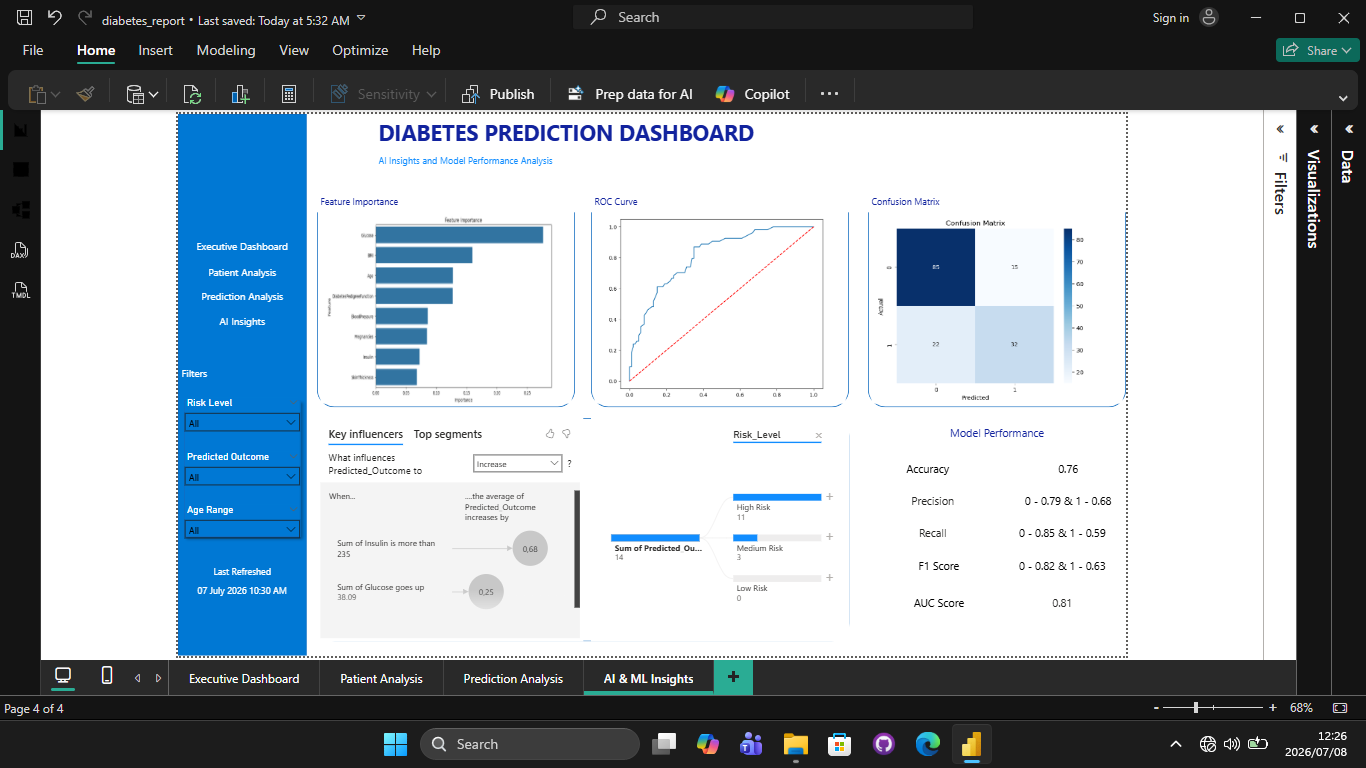

The dashboard page shown, as its layout file describes it:
{"tool":"powerbi","page":{"name":"AI & ML Insights","canvas":[1400,800],"ordinal":3},"visuals":[{"type":"shape","box":[0,0,189.7,799.4],"z":0},{"type":"textbox","box":[0,180.6,189.7,37.6],"z":1000},{"type":"textbox","box":[0,218.3,189.7,36.1],"z":2000},{"type":"textbox","box":[0,254.4,189.7,36.1],"z":3000},{"type":"textbox","box":[0,290.5,189.7,34.6],"z":4000},{"type":"shape","box":[0,414,189.7,219.8],"z":5000},{"type":"textbox","box":[0,367.3,189.7,33.1],"z":6000},{"type":"slicer","fields":{"Values":["Diabetes_Predictions.Risk_Level"]},"box":[0,414,189.7,67.7],"z":7000},{"type":"slicer","fields":{"Values":["Diabetes_Predictions.Predicted_Outcome"]},"box":[0,492.3,189.7,63.2],"z":8000},{"type":"slicer","fields":{"Values":["Diabetes_Predictions.Age"]},"box":[0,570.5,189.7,63.2],"z":9000},{"type":"textbox","box":[0,660.9,189.7,28.6],"z":10000},{"type":"textbox","box":[0,689.5,189.7,31.6],"z":11000},{"type":"textbox","box":[290.5,0,1109.5,54.2],"z":12000},{"type":"textbox","box":[290.5,54.2,1109.5,33.1],"z":13000},{"type":"shape","box":[204.7,114.4,380.9,317.6],"z":14000},{"type":"shape","box":[204.7,448.6,785.8,329.7],"z":15000},{"type":"shape","box":[1019.1,114.4,380.9,317.6],"z":16000},{"type":"shape","box":[609.7,114.4,380.9,317.6],"z":17000},{"type":"shape","box":[1019.1,454.6,380.9,317.6],"z":18000},{"type":"keyDriversVisual","fields":{"Target":["Diabetes_Predictions.Predicted_Outcome"],"ExplainBy":["Sum(Diabetes_Predictions.Glucose)","Sum(Diabetes_Predictions.BMI)","Sum(Diabetes_Predictions.Age)","Sum(Diabetes_Predictions.BloodPressure)","Sum(Diabetes_Predictions.Insulin)","Sum(Diabetes_Predictions.SkinThickness)","Sum(Diabetes_Predictions.DiabetesPedigreeFunction)","Sum(Diabetes_Predictions.Pregnancies)"]},"box":[204.7,448.6,392.9,329.7],"z":19000},{"type":"decompositionTreeVisual","fields":{"Analyze":["Sum(Diabetes_Predictions.Predicted_Outcome)"],"ExplainBy":["Diabetes_Predictions.Risk_Level","Diabetes_Predictions.Age","Diabetes_Predictions.BMI","Diabetes_Predictions.Glucose"]},"box":[609.7,448.6,380.9,329.7],"z":20000},{"type":"image","box":[204.7,144.5,380.9,287.5],"z":20001},{"type":"image","box":[609.7,144.5,380.9,287.5],"z":20002},{"type":"image","box":[1019.1,144.5,380.9,287.5],"z":20003},{"type":"textbox","box":[1019.1,454.6,380.9,37.6],"z":20004},{"type":"textbox","box":[204.7,114.4,380.9,30.1],"z":20005},{"type":"textbox","box":[609.7,114.4,380.9,30.1],"z":20006},{"type":"textbox","box":[1019.1,114.4,380.9,30.1],"z":20007},{"type":"textbox","box":[1019.1,507.3,176.1,33.1],"z":20008},{"type":"textbox","box":[1019.1,555.5,191.2,33.1],"z":20009},{"type":"textbox","box":[1019.1,602.2,191.2,31.6],"z":20010},{"type":"textbox","box":[1019.1,650.3,209.2,39.1],"z":20011},{"type":"textbox","box":[1019.1,706,209.2,39.1],"z":20012},{"type":"textbox","box":[1228.4,507.3,171.6,33.1],"z":20013},{"type":"textbox","box":[1228.4,555.5,171.6,33.1],"z":20014},{"type":"textbox","box":[1210.3,602.2,189.7,31.6],"z":20015},{"type":"textbox","box":[1210.3,650.3,189.7,39.1],"z":20016},{"type":"textbox","box":[1210.3,706,189.7,39.1],"z":20017}]}

Visuals, with their boxes on the page's 1400x800 design canvas (x1, y1, x2, y2). These are canvas units, not pixel positions in the 1366x768 screenshot, which may show the page scaled, cropped or inside an application window:
shape: 0, 0, 190, 799
textbox: 0, 181, 190, 218
textbox: 0, 218, 190, 254
textbox: 0, 254, 190, 290
textbox: 0, 290, 190, 325
shape: 0, 414, 190, 634
textbox: 0, 367, 190, 400
slicer - Diabetes_Predictions.Risk_Level: 0, 414, 190, 482
slicer - Diabetes_Predictions.Predicted_Outcome: 0, 492, 190, 556
slicer - Diabetes_Predictions.Age: 0, 570, 190, 634
textbox: 0, 661, 190, 690
textbox: 0, 690, 190, 721
textbox: 290, 0, 1400, 54
textbox: 290, 54, 1400, 87
shape: 205, 114, 586, 432
shape: 205, 449, 990, 778
shape: 1019, 114, 1400, 432
shape: 610, 114, 991, 432
shape: 1019, 455, 1400, 772
keyDriversVisual - Diabetes_Predictions.Predicted_Outcome x Sum(Diabetes_Predictions.Glucose): 205, 449, 598, 778
decompositionTreeVisual - Sum(Diabetes_Predictions.Predicted_Outcome) x Diabetes_Predictions.Risk_Level: 610, 449, 991, 778
image: 205, 144, 586, 432
image: 610, 144, 991, 432
image: 1019, 144, 1400, 432
textbox: 1019, 455, 1400, 492
textbox: 205, 114, 586, 144
textbox: 610, 114, 991, 144
textbox: 1019, 114, 1400, 144
textbox: 1019, 507, 1195, 540
textbox: 1019, 556, 1210, 589
textbox: 1019, 602, 1210, 634
textbox: 1019, 650, 1228, 689
textbox: 1019, 706, 1228, 745
textbox: 1228, 507, 1400, 540
textbox: 1228, 556, 1400, 589
textbox: 1210, 602, 1400, 634
textbox: 1210, 650, 1400, 689
textbox: 1210, 706, 1400, 745
